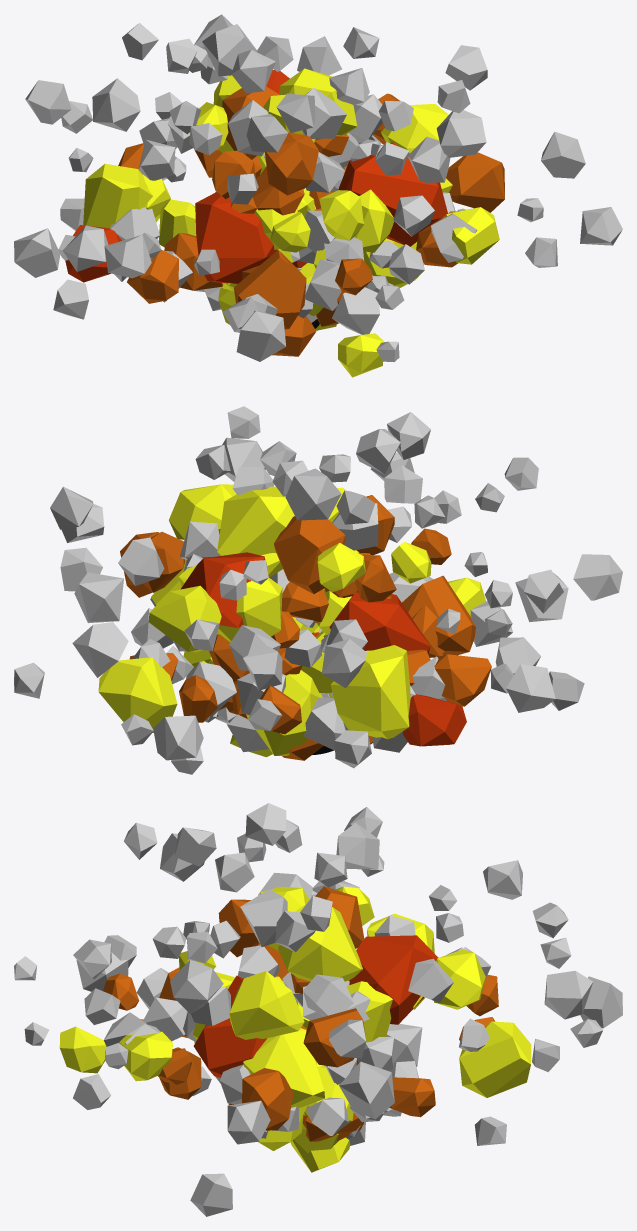
The model's file is Explosion0029.obj.
The picture shows the model from 3 angles, top to bottom: view 1: azimuth 30°, elevation 25°; view 2: azimuth 150°, elevation 25°; view 3: azimuth 270°, elevation 25°; orthographic projection. The views are drawn at different scales.
Parts seen in each view (by area): view 1: Cube_Material, Cube.002_Material.003, Cube.001_Material.002, Cube.003_Material.004; view 2: Cube_Material, Cube.002_Material.003, Cube.001_Material.002, Cube.003_Material.004; view 3: Cube_Material, Cube.002_Material.003, Cube.001_Material.002, Cube.003_Material.004.
Boxes of the visible parts, x1,y1,x2,y2 form: Cube_Material: (14,14,622,362); Cube.002_Material.003: (83,68,499,377); Cube.001_Material.002: (118,86,504,356); Cube.003_Material.004: (65,69,447,283); Cube_Material: (14,406,622,774); Cube.002_Material.003: (98,484,486,757); Cube.001_Material.002: (120,495,491,760); Cube.003_Material.004: (180,552,466,746); Cube_Material: (14,803,622,1216); Cube.002_Material.003: (59,886,531,1172); Cube.001_Material.002: (103,886,498,1141); Cube.003_Material.004: (193,935,438,1077).
Bounding box in the file's own units: 16.57 × 9.31 × 16.14.
